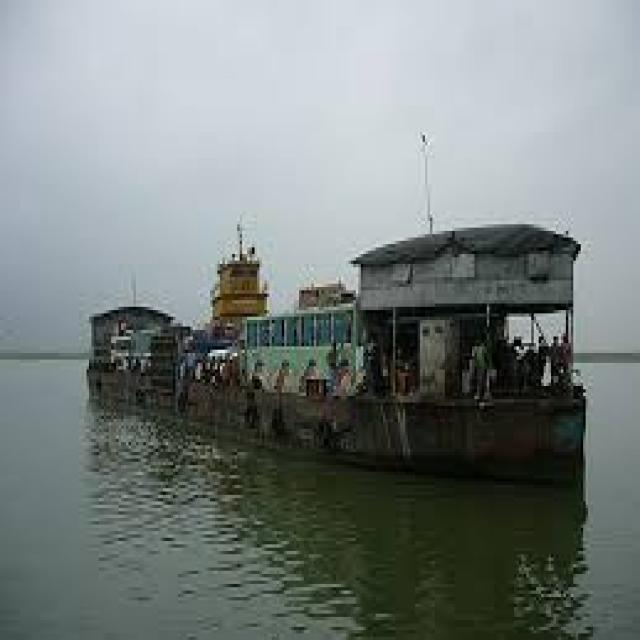cargoship: (58, 191, 587, 478)
